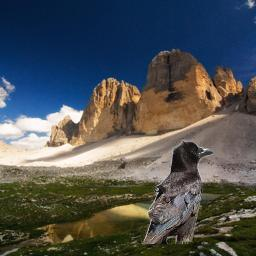Crow: (142, 140, 215, 245)
